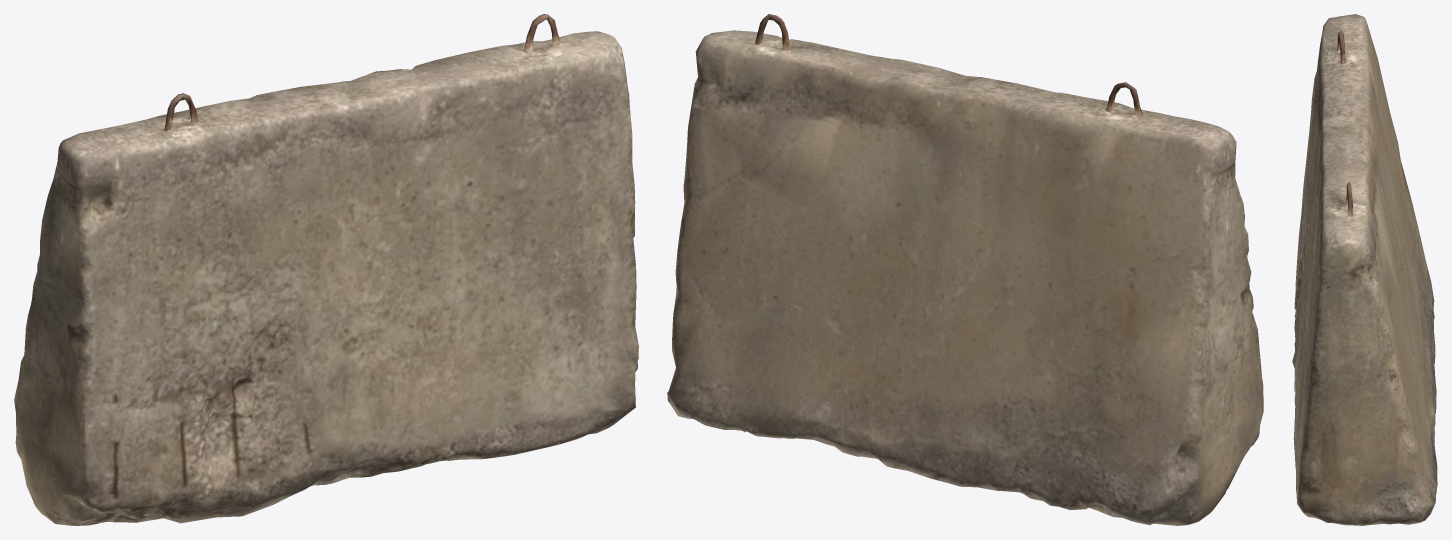
The model's file is concrete_road_barrier_02.glb.
The picture shows the model from 3 angles, left to right: view 1: azimuth 30°, elevation 25°; view 2: azimuth 150°, elevation 25°; view 3: azimuth 270°, elevation 25°; orthographic projection. The views are drawn at different scales.
Parts seen in each view (by area): view 1: concrete_road_barrier_02; view 2: concrete_road_barrier_02; view 3: concrete_road_barrier_02.
Boxes of the visible parts, left/top/right/bottom form: concrete_road_barrier_02: left=14, top=14, right=638, bottom=525; concrete_road_barrier_02: left=667, top=14, right=1263, bottom=525; concrete_road_barrier_02: left=1292, top=14, right=1437, bottom=525.
Bounding box in the file's own units: 1.56 × 1.11 × 0.4418.
Materials: 1 (1 with a texture image).
